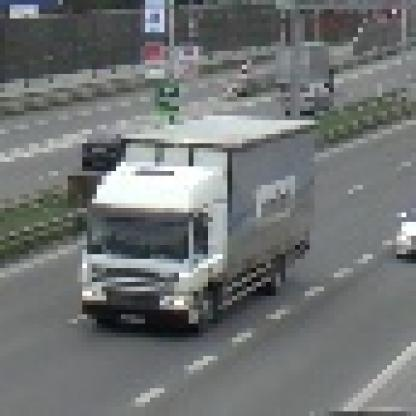truck: (74, 107, 316, 334)
